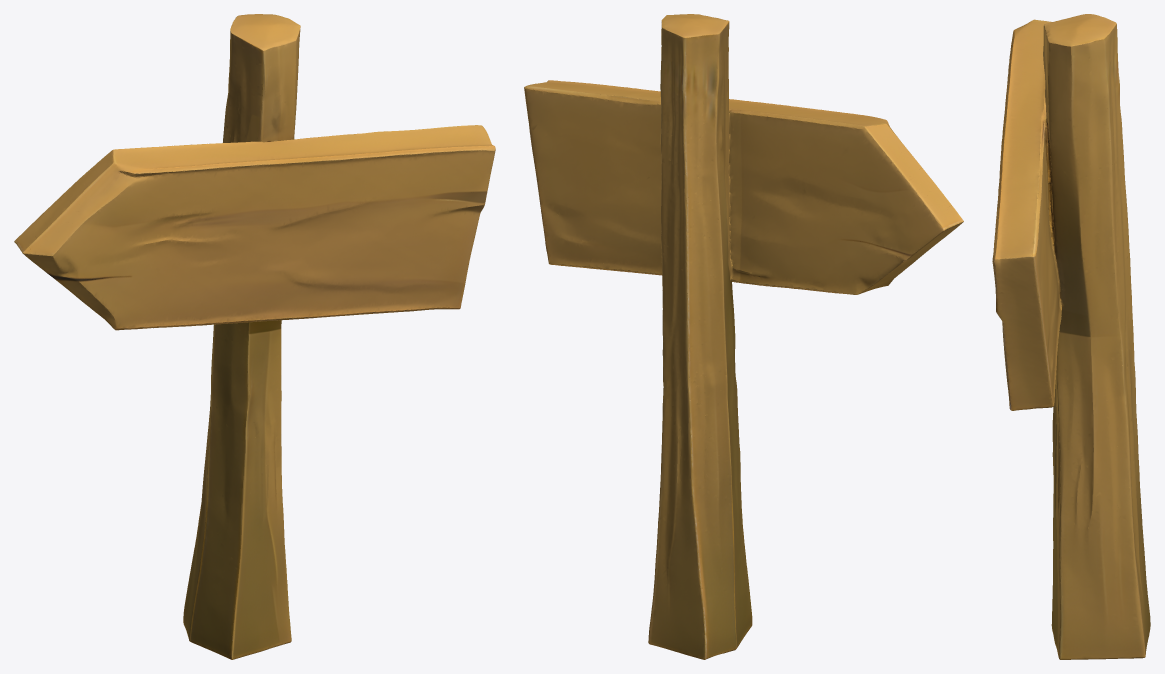
File: base_basic_pbr.fbx
3 views of the same model, side by side, from view 1: azimuth 30°, elevation 25°; view 2: azimuth 150°, elevation 25°; view 3: azimuth 270°, elevation 25° (orthographic). The views are drawn at different scales.
Parts seen in each view (by area): view 1: geometry_0; view 2: geometry_0; view 3: geometry_0.
Part boxes in pixels (x1,y1,x2,y2): geometry_0: (14,14,495,659); geometry_0: (524,14,963,659); geometry_0: (992,14,1150,659).
Size of the model in its own units: 147 by 190 by 43.43.
1 material, 1 textured.
